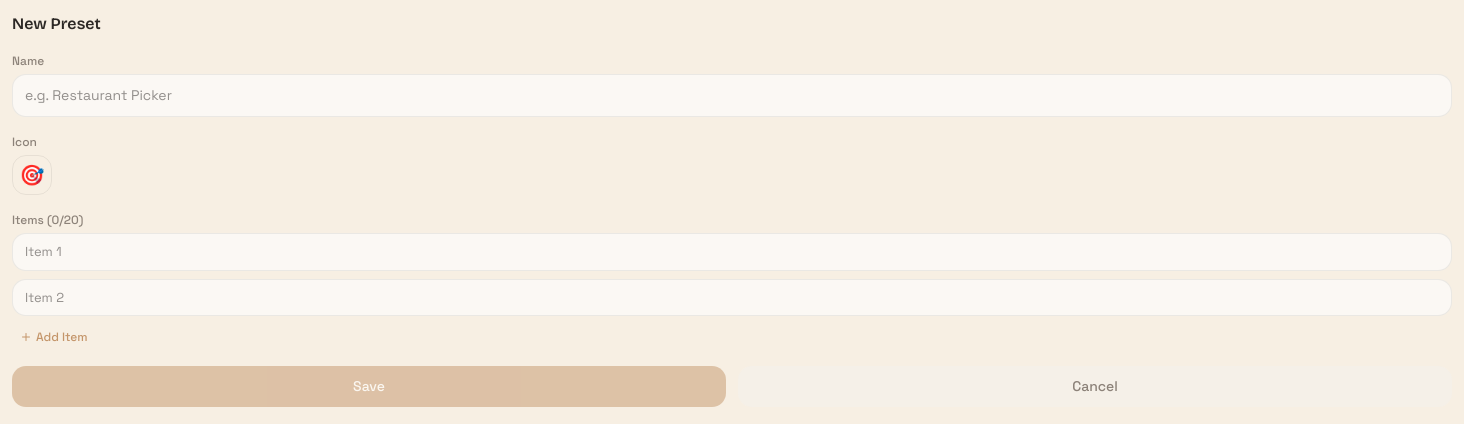
it: CreatePresetForm › enables save when name and 2+ items are filled
The image size is (1464, 424).
In the field with test id "preset-name-input": point(732, 96) [12, 74, 1452, 117], type "My Wheel"
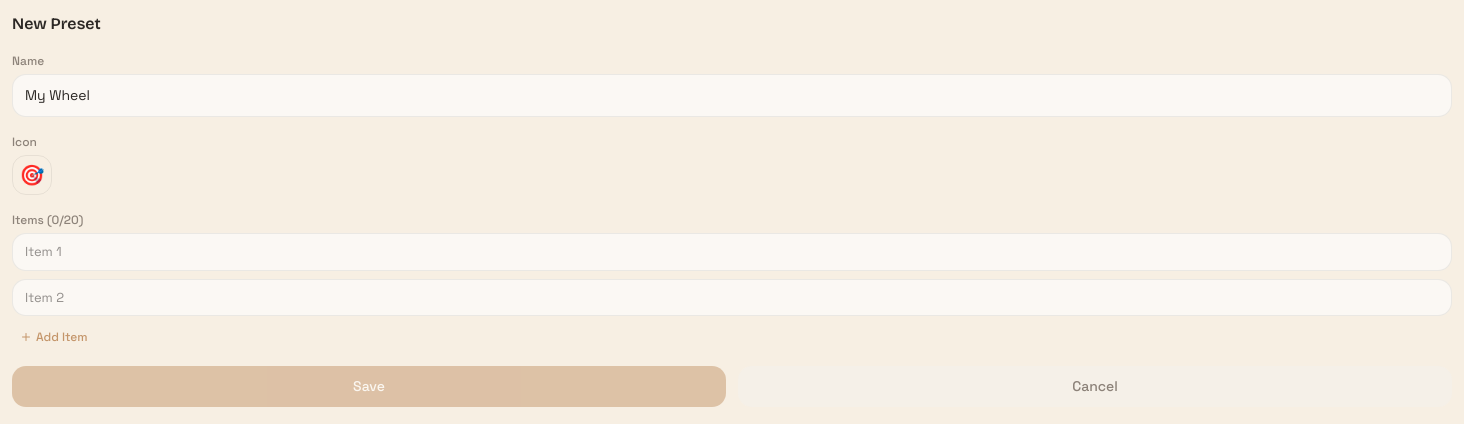
In the field with test id "item-input-0": point(732, 252) [12, 233, 1452, 270], type "Option A"
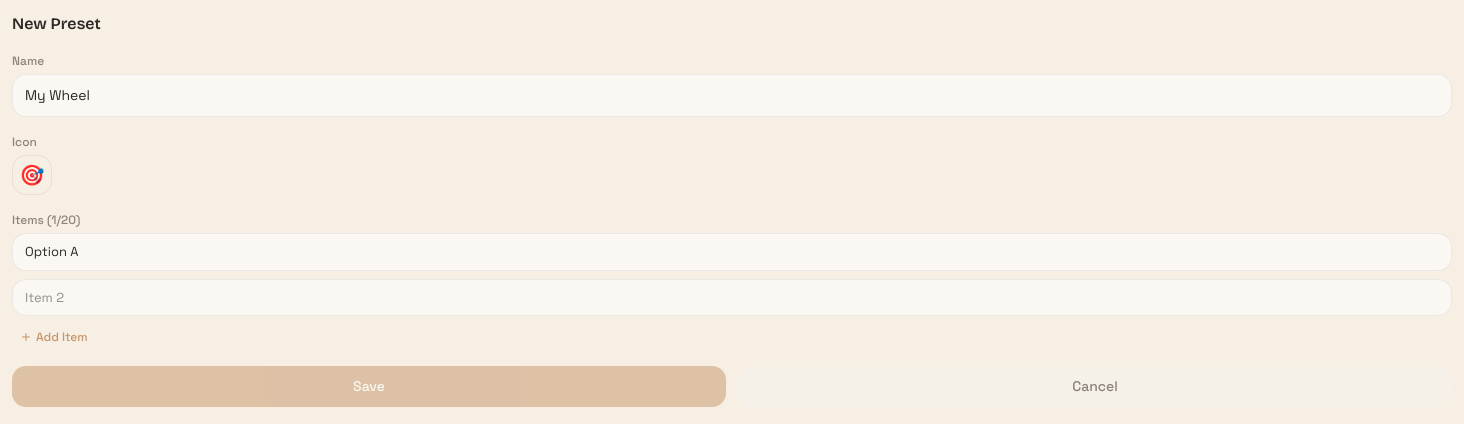
In the field with test id "item-input-1": point(732, 297) [12, 278, 1452, 316], type "Option B"
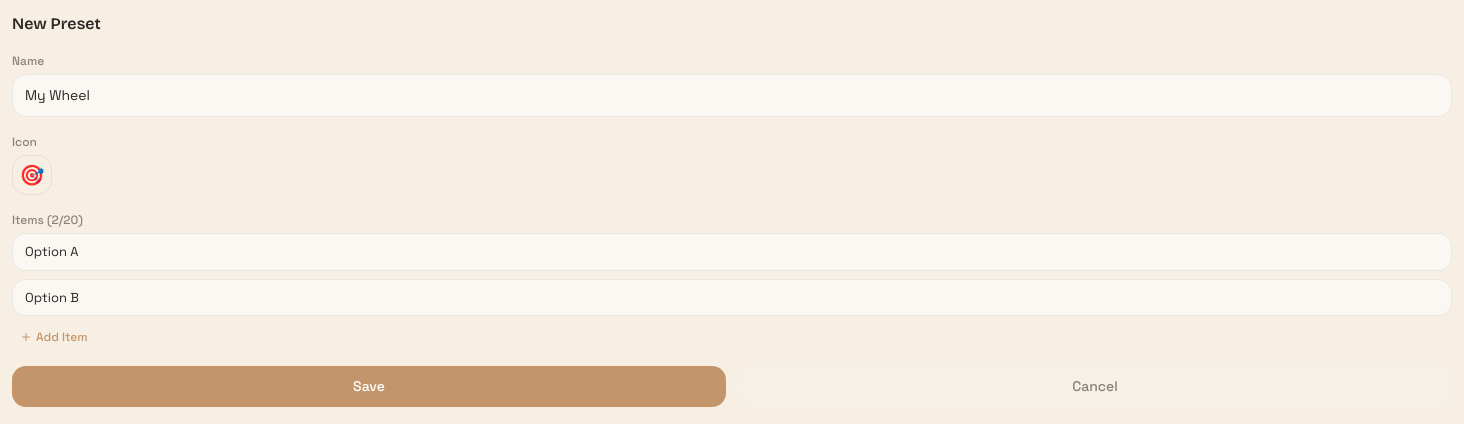
Result: the button with test id "save-preset-btn" is enabled at [12, 366, 726, 407]
